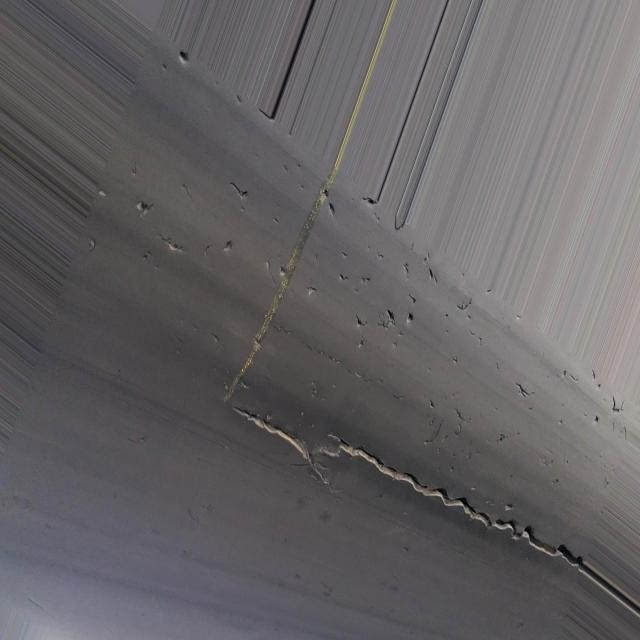Puncture: (119, 177, 206, 286), (349, 248, 432, 353), (164, 41, 197, 81)
Tear: (221, 10, 640, 625)
